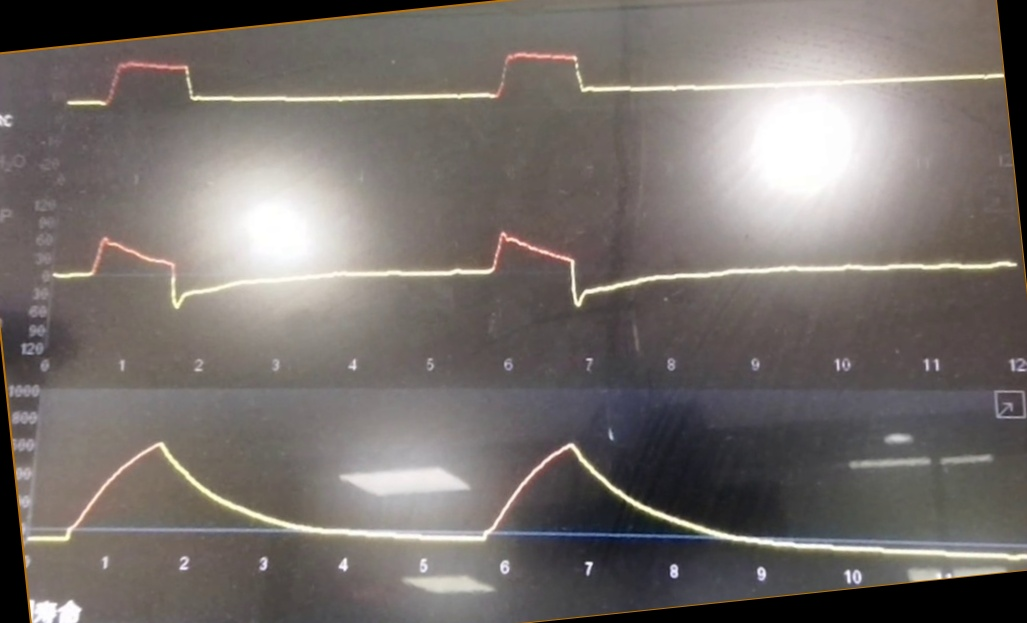Normal Flow: (52, 209, 1016, 328)
Normal Volume: (33, 430, 1026, 563)
